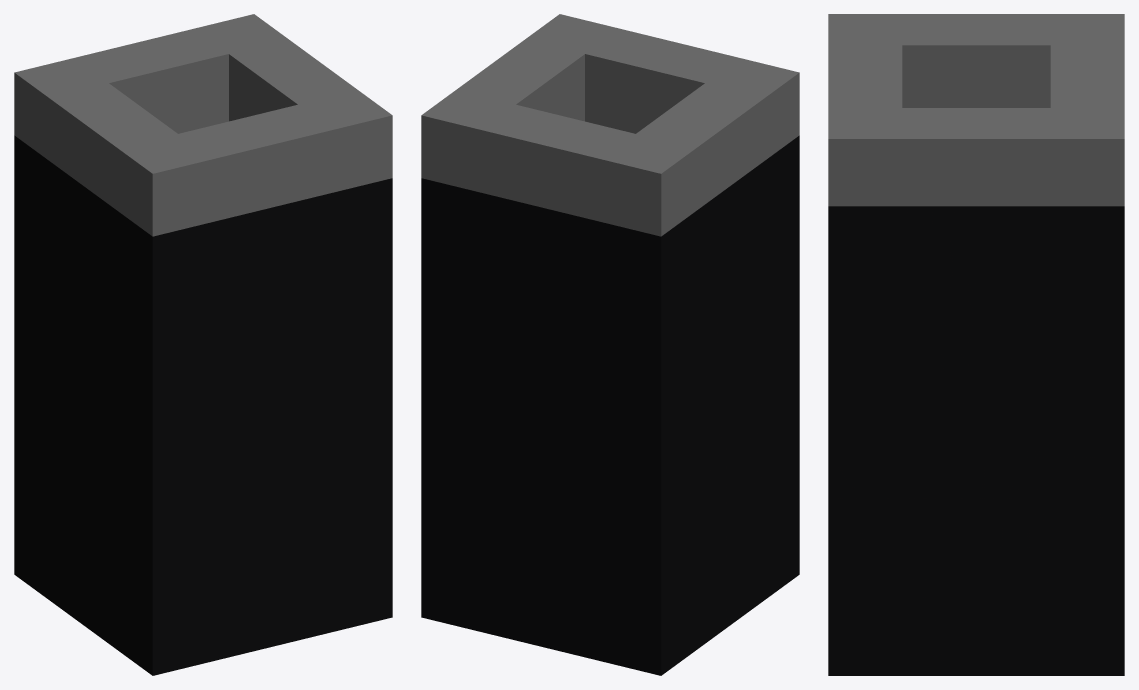
The model's file is trash_can_01.dae.
3 renders of one model, left to right at view 1: azimuth 30°, elevation 25°; view 2: azimuth 150°, elevation 25°; view 3: azimuth 270°, elevation 25°, orthographic. The views are drawn at different scales.
Visible parts, largest first — view 1: Untitled; view 2: Untitled; view 3: Untitled.
Part boxes in pixels (x1,y1,x2,y2): Untitled: [14, 14, 392, 675]; Untitled: [421, 14, 799, 675]; Untitled: [828, 14, 1124, 675].
Size of the model in its own units: 0.24 by 0.24 by 0.48.
Materials: 1 (1 with a texture image).
